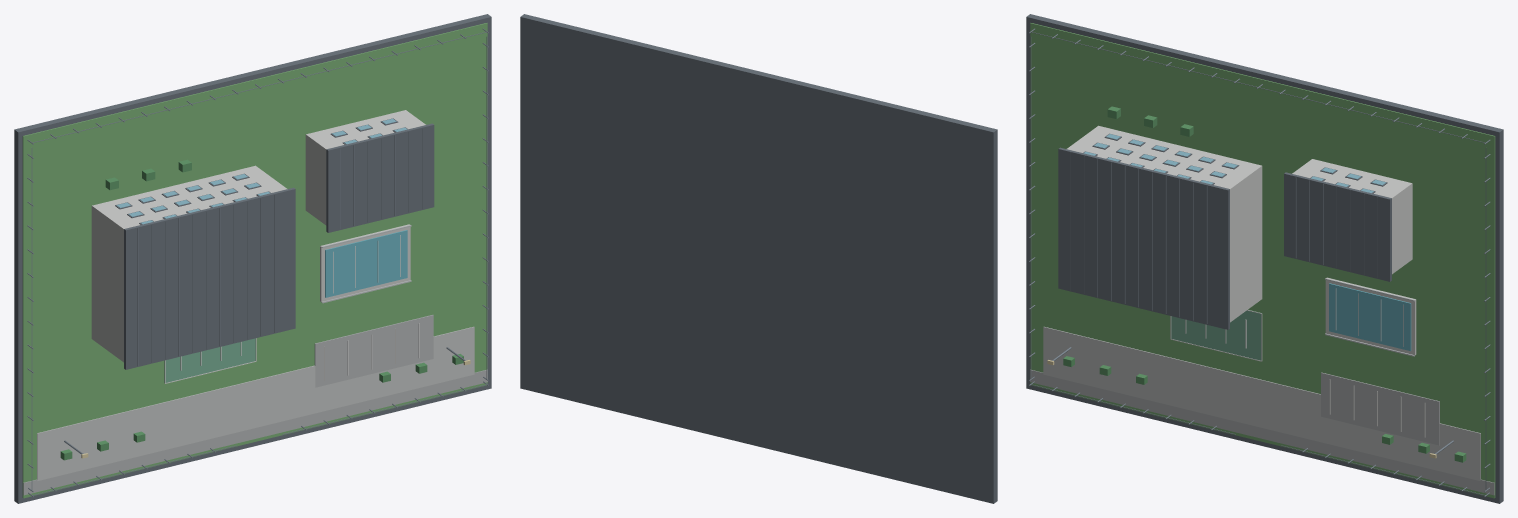
The model's file is medical_centre_level_3.glb.
3 views of the same model, side by side, from view 1: azimuth 30°, elevation 25°; view 2: azimuth 150°, elevation 25°; view 3: azimuth 330°, elevation 25° (orthographic).
Visible parts, largest first — view 1: land_1, dark_roof_5, forecourt_2, base_slab_0, dark_roof_96, clinic_walls_4, access_road_3, parking_149, hydro_pool_133, clinic_walls_95, rehab_field_140, pool_terrace_132 (+2 smaller); view 2: base_slab_0; view 3: land_1, dark_roof_5, forecourt_2, base_slab_0, dark_roof_96, clinic_walls_4, access_road_3, parking_149, hydro_pool_133, clinic_walls_95, rehab_field_140, pool_terrace_132 (+2 smaller).
Part boxes in pixels (left/top/right/bottom): land_1: left=22, top=23, right=487, bottom=498; dark_roof_5: left=124, top=187, right=295, bottom=369; forecourt_2: left=37, top=326, right=474, bottom=480; base_slab_0: left=14, top=14, right=491, bottom=503; dark_roof_96: left=326, top=123, right=434, bottom=232; clinic_walls_4: left=91, top=165, right=287, bottom=362; access_road_3: left=23, top=369, right=487, bottom=495; parking_149: left=314, top=315, right=433, bottom=387; hydro_pool_133: left=325, top=230, right=407, bottom=297; clinic_walls_95: left=305, top=110, right=425, bottom=225; rehab_field_140: left=164, top=338, right=255, bottom=382; pool_terrace_132: left=320, top=224, right=410, bottom=301; base_slab_0: left=520, top=14, right=997, bottom=503; land_1: left=1030, top=23, right=1495, bottom=498; dark_roof_5: left=1058, top=147, right=1229, bottom=329; forecourt_2: left=1043, top=326, right=1480, bottom=480; base_slab_0: left=1026, top=14, right=1503, bottom=503; dark_roof_96: left=1284, top=172, right=1391, bottom=281; clinic_walls_4: left=1067, top=125, right=1262, bottom=322; access_road_3: left=1030, top=369, right=1494, bottom=495; parking_149: left=1321, top=372, right=1439, bottom=445; hydro_pool_133: left=1329, top=283, right=1411, bottom=351; clinic_walls_95: left=1292, top=159, right=1412, bottom=274; rehab_field_140: left=1171, top=310, right=1261, bottom=360; pool_terrace_132: left=1325, top=277, right=1416, bottom=355.
Size of the model in its own units: 52 by 39 by 7.96.
